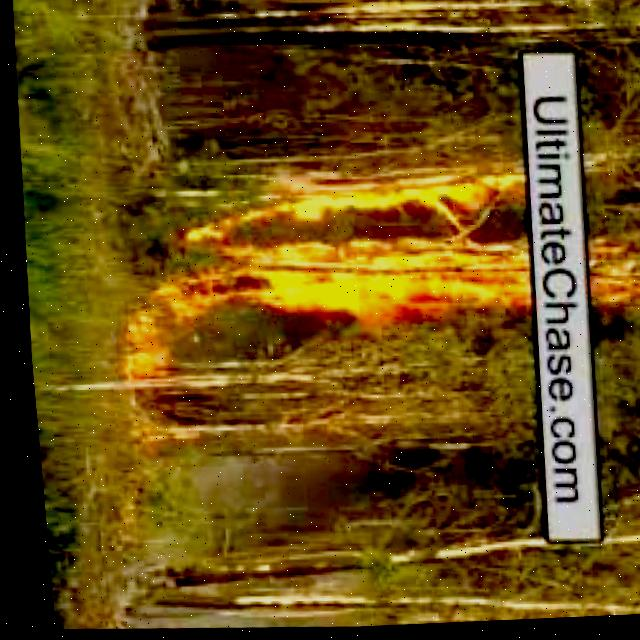Fire: (177, 162, 525, 335), (111, 257, 186, 383), (579, 239, 640, 319)
